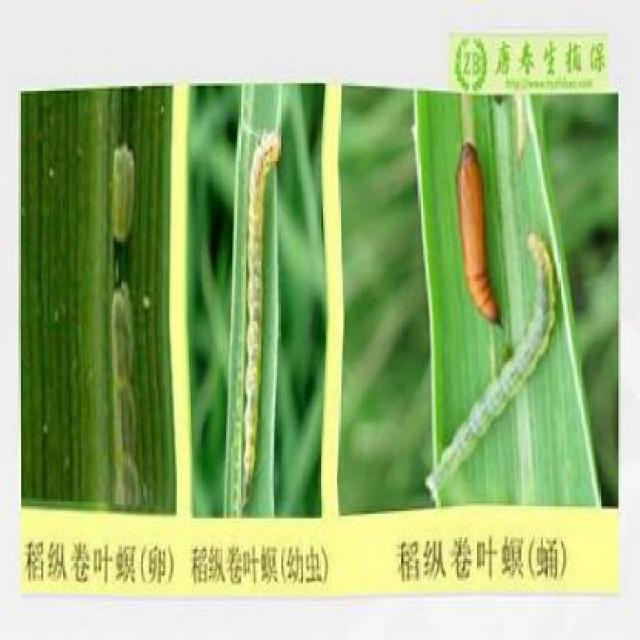leaf-folder: (417, 142, 571, 504), (225, 104, 272, 504), (100, 150, 149, 488)
